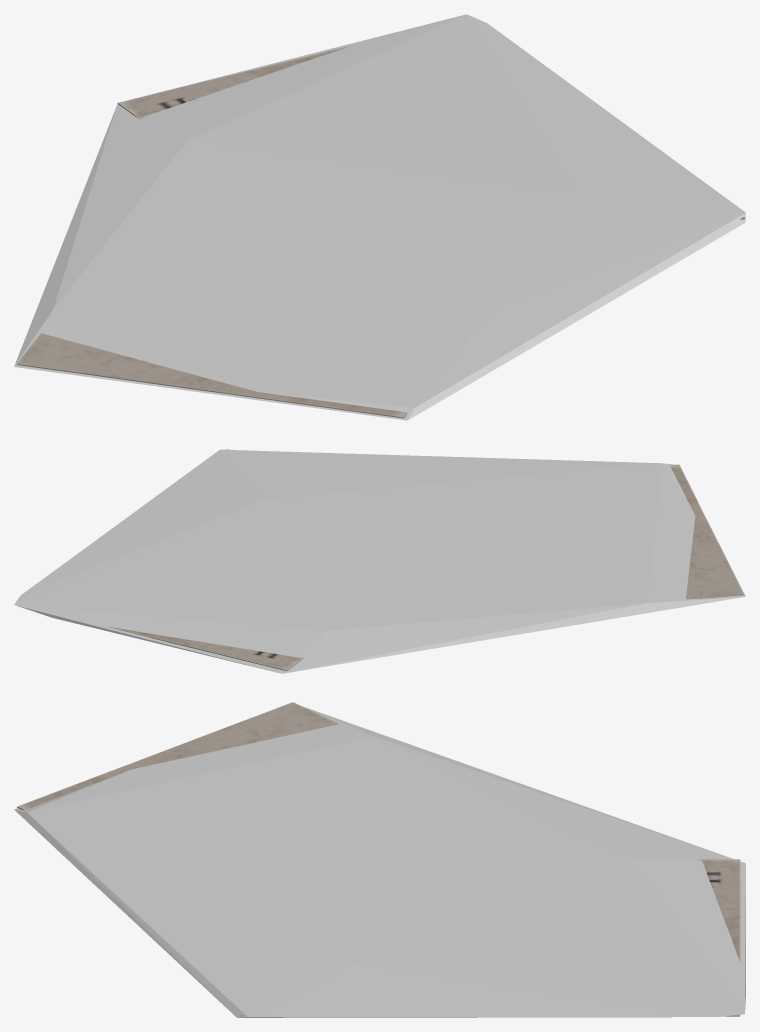
The model's file is SM_PaperDebris_01.fbx.
3 renders of one model, top to bottom at view 1: azimuth 30°, elevation 25°; view 2: azimuth 150°, elevation 25°; view 3: azimuth 270°, elevation 25°, orthographic. The views are drawn at different scales.
Visible parts, largest first — view 1: SM_PaperDebris_01_ConvexHulls, SM_PaperDebris_01; view 2: SM_PaperDebris_01_ConvexHulls, SM_PaperDebris_01; view 3: SM_PaperDebris_01_ConvexHulls, SM_PaperDebris_01.
Boxes of the visible parts, x1,y1,x2,y2 form: SM_PaperDebris_01_ConvexHulls: (14, 14, 745, 420); SM_PaperDebris_01: (17, 46, 744, 418); SM_PaperDebris_01_ConvexHulls: (14, 449, 745, 673); SM_PaperDebris_01: (108, 449, 743, 671); SM_PaperDebris_01_ConvexHulls: (14, 706, 745, 1017); SM_PaperDebris_01: (17, 702, 740, 1016).
Bounding box in the file's own units: 34.96 × 34.44 × 0.3766.
2 materials, 1 textured.
